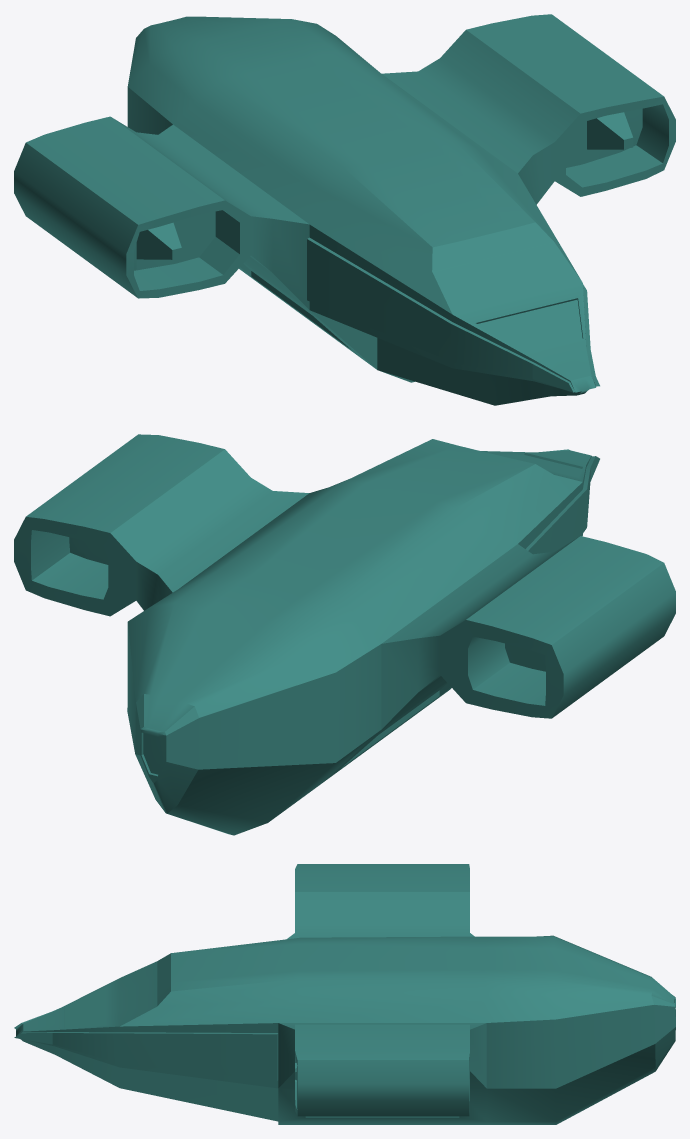
Rendered from AllyBomberTexture.fbx.
3 renders of one model, top to bottom at view 1: azimuth 30°, elevation 25°; view 2: azimuth 150°, elevation 25°; view 3: azimuth 270°, elevation 25°, orthographic. The views are drawn at different scales.
Visible parts, largest first — view 1: BomberShip; view 2: BomberShip; view 3: BomberShip.
Part boxes in pixels (x1,y1,x2,y2): BomberShip: (14, 14, 675, 405); BomberShip: (14, 434, 675, 835); BomberShip: (14, 864, 675, 1124).
Size of the model in its own units: 97.26 by 36.88 by 133.
